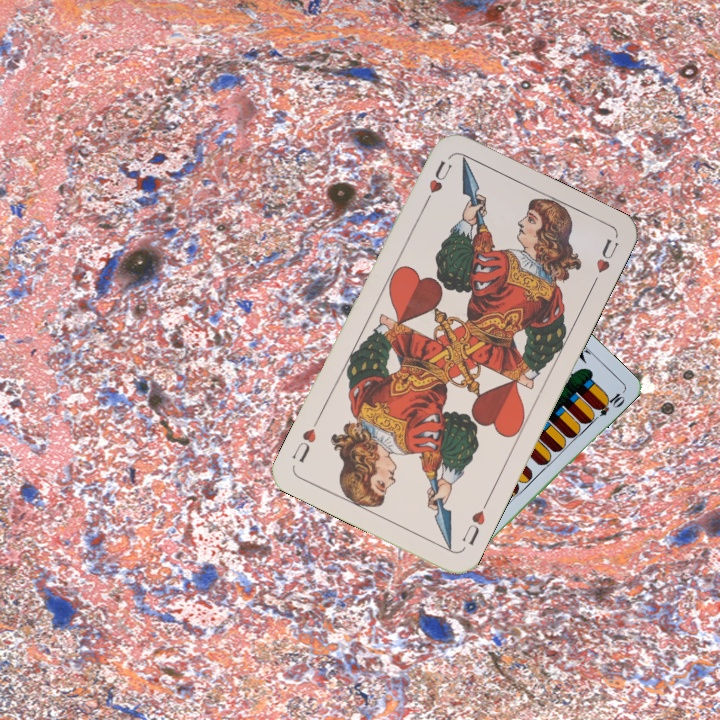HU: (419, 156, 455, 209), (457, 496, 491, 548)
